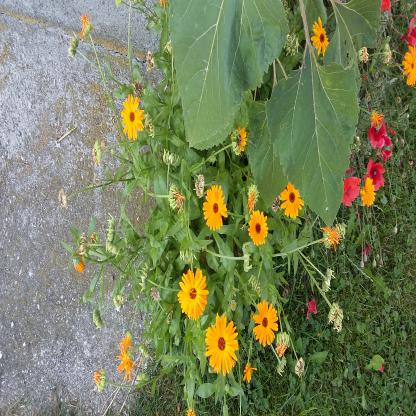marigold: (171, 255, 211, 324), (206, 318, 238, 374), (198, 179, 230, 235), (116, 94, 146, 141), (251, 300, 279, 346), (278, 180, 306, 220), (248, 206, 270, 249), (312, 15, 334, 58)
